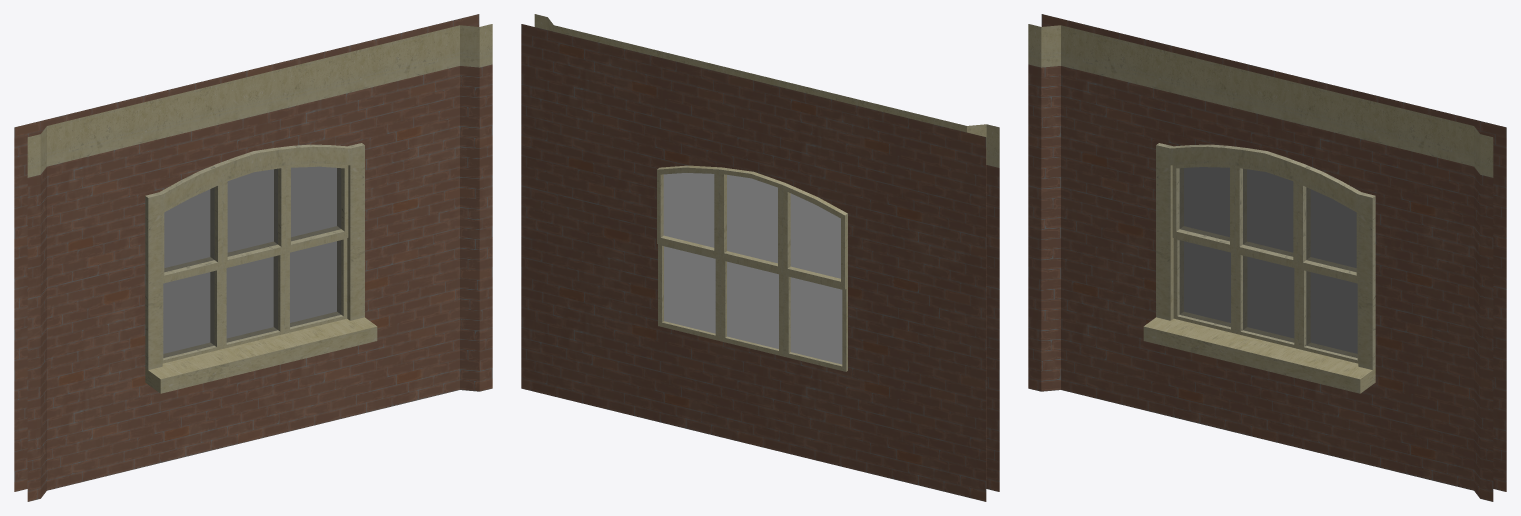
File: Brick_Inset_Window_Curved.gltf
3 views of the same model, side by side, from view 1: azimuth 30°, elevation 25°; view 2: azimuth 150°, elevation 25°; view 3: azimuth 330°, elevation 25° (orthographic).
Visible parts, largest first — view 1: Brick_Inset_Window_Curved; view 2: Brick_Inset_Window_Curved; view 3: Brick_Inset_Window_Curved.
Boxes of the visible parts, x1=… form: Brick_Inset_Window_Curved: x1=14, y1=14, x2=492, y2=501; Brick_Inset_Window_Curved: x1=521, y1=14, x2=999, y2=501; Brick_Inset_Window_Curved: x1=1028, y1=14, x2=1506, y2=501.
Bounding box in the file's own units: 4 × 3 × 0.3737.
5 materials, 3 textured.
